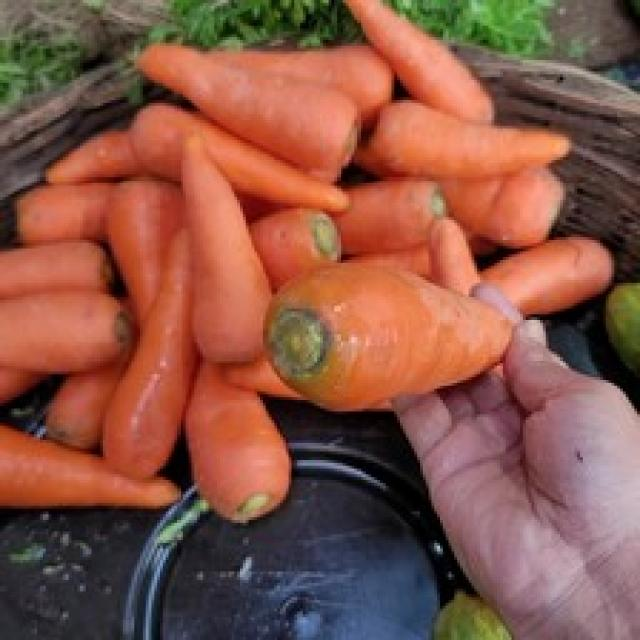Fresh_Carrot: (277, 261, 526, 407), (172, 118, 275, 369), (135, 54, 365, 166)
